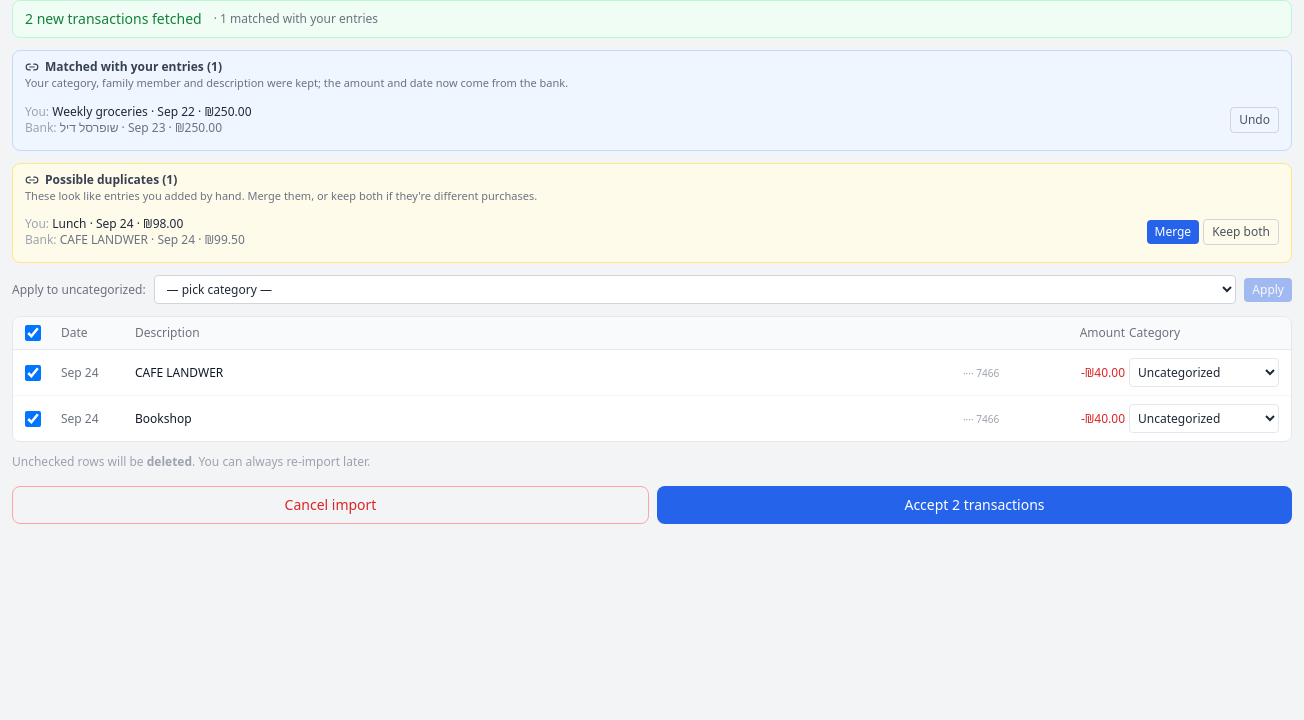
Test case: ImportReviewStep matching › merges a suggestion into the entry
Click the button "Merge" at [1173, 232], box [1146,220,1199,244]
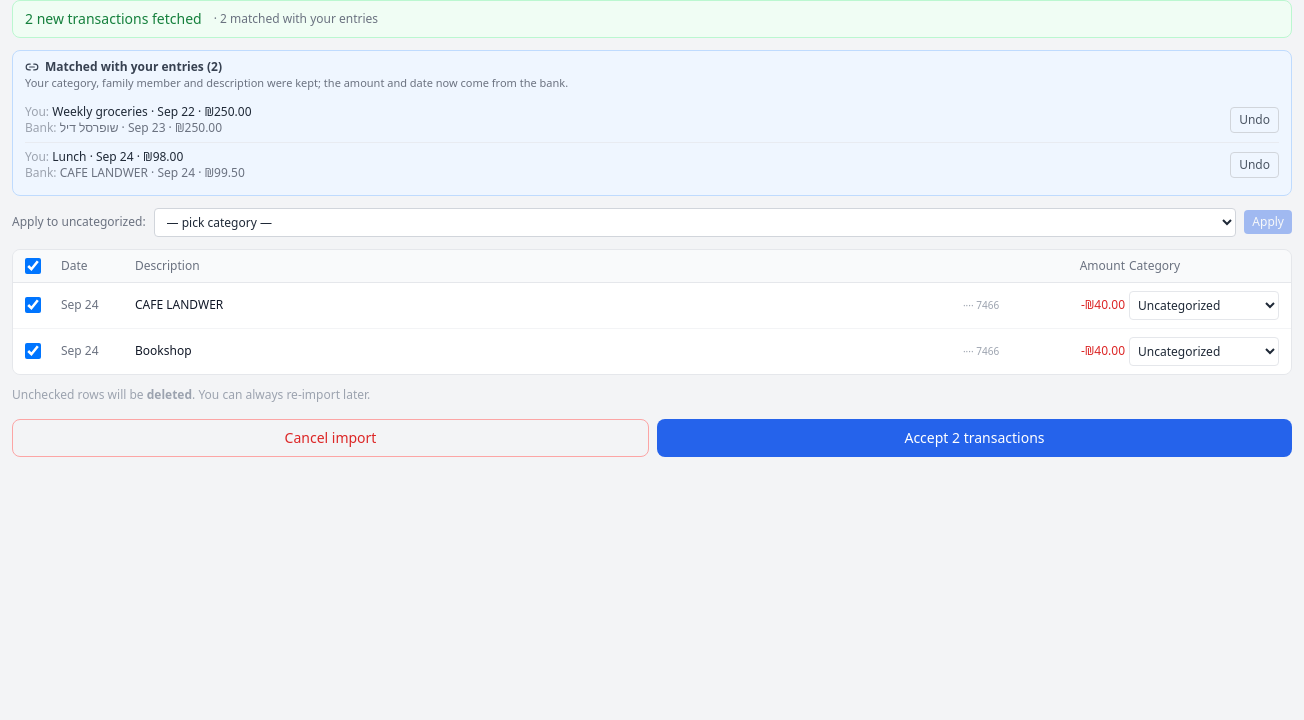
Expected: the text "Matched with your entries (2)" is shown, [25,58,222,75]
Expected: the text "Possible duplicates" is gone
